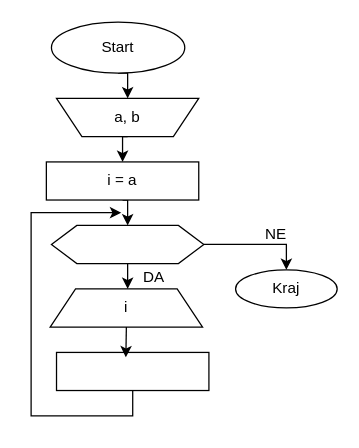
The diagram is 359 pixels wide and 448 high, and some of its shapes have lost their labels. Each missing label, with the box of its shape:
i <= b: (50, 224, 204, 264)
i = i + 1: (55, 351, 209, 391)
